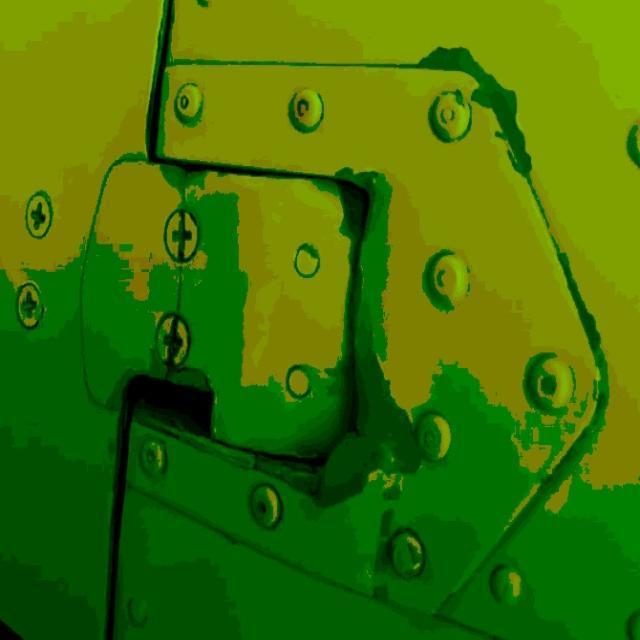crack: (164, 264, 190, 312)
